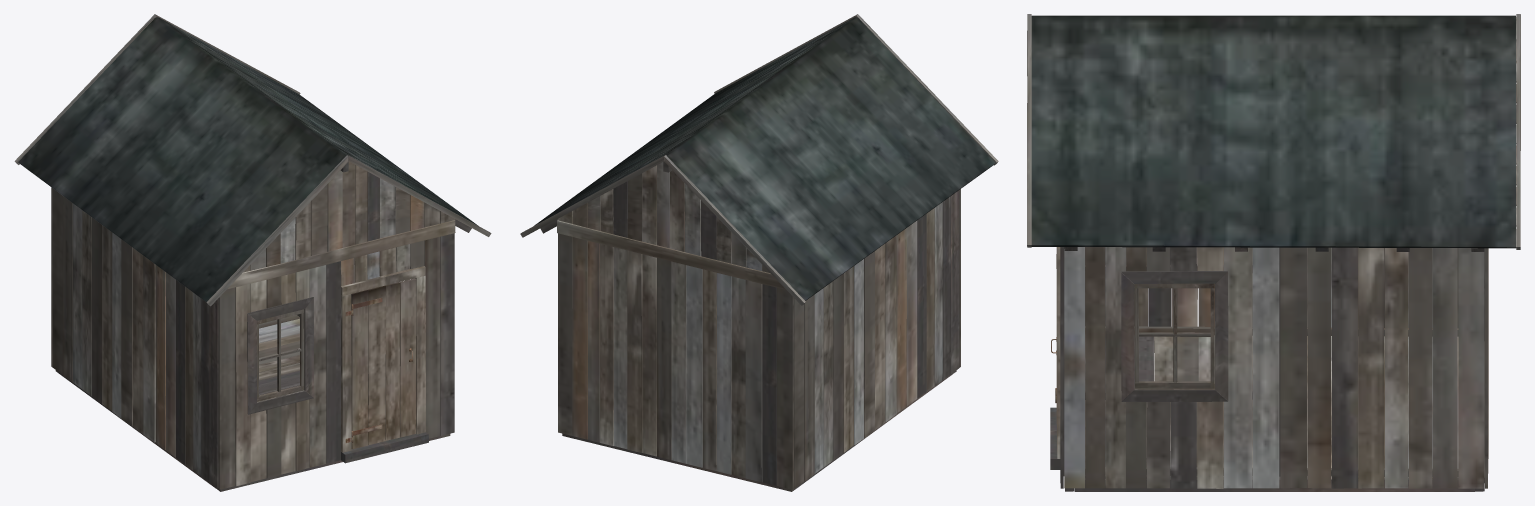
File: cabin.lod1.glb
The picture shows the model from 3 angles, left to right: view 1: azimuth 30°, elevation 25°; view 2: azimuth 150°, elevation 25°; view 3: azimuth 270°, elevation 25°; orthographic projection. The views are drawn at different scales.
Visible parts, largest first — view 1: Base_PBR_0; view 2: Base_PBR_0; view 3: Base_PBR_0.
Boxes of the visible parts, bbox=[...] form: Base_PBR_0: bbox=[14, 14, 491, 491]; Base_PBR_0: bbox=[520, 14, 998, 491]; Base_PBR_0: bbox=[1027, 14, 1520, 491].
Size of the model in its own units: 7.62 by 8.16 by 9.
Materials: 1 (1 with a texture image).
